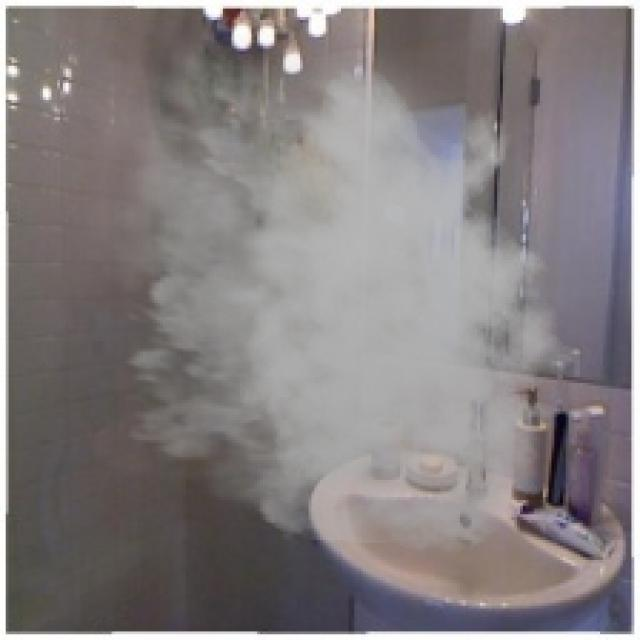Smoke: (66, 19, 594, 554)
